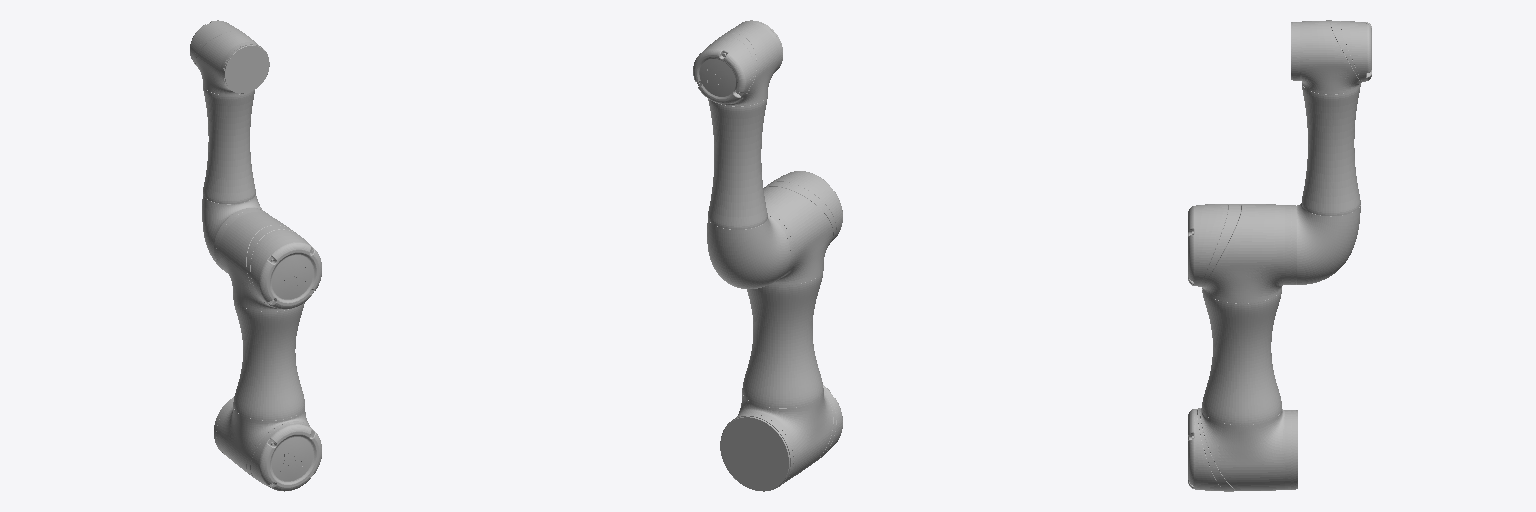
robot.urdf — tm5-700:
<?xml version="1.0" encoding="utf-8"?>
<!-- =================================================================================== -->
<!-- |    This document was autogenerated by xacro from tm5-700.urdf.xacro             | -->
<!-- |    EDITING THIS FILE BY HAND IS NOT RECOMMENDED                                 | -->
<!-- =================================================================================== -->
<robot name="tm5-700">
  <gazebo reference="base">
    <selfCollide>true</selfCollide>
    <material>Gazebo/Residential</material>
  </gazebo>
  <gazebo reference="link_0">
    <selfCollide>true</selfCollide>
    <material>Gazebo/Motorway</material>
  </gazebo>
  <gazebo reference="link_1">
    <selfCollide>true</selfCollide>
    <material>Gazebo/Footway</material>
  </gazebo>
  <gazebo reference="link_2">
    <selfCollide>true</selfCollide>
    <material>Gazebo/Pedestrian</material>
  </gazebo>
  <gazebo reference="link_3">
    <selfCollide>true</selfCollide>
    <material>Gazebo/Footway</material>
  </gazebo>
  <gazebo reference="link_4">
    <selfCollide>true</selfCollide>
    <material>Gazebo/Motorway</material>
  </gazebo>
  <gazebo reference="link_5">
    <selfCollide>true</selfCollide>
    <material>Gazebo/Pedestrian</material>
  </gazebo>
  <gazebo reference="link_6">
    <selfCollide>true</selfCollide>
    <material>Gazebo/DarkGrey</material>
  </gazebo>
  <gazebo>
    <plugin filename="libgazebo_ros_control.so" name="gazebo_ros_control">
      <robotNamespace>/</robotNamespace>
      <robotSimType>gazebo_ros_control/DefaultRobotHWSim</robotSimType>
    </plugin>
  </gazebo>
  <transmission name="trans_1">
    <type>transmission_interface/SimpleTransmission</type>
    <joint name="shoulder_1_joint">
      <hardwareInterface>hardware_interface/PositionJointInterface</hardwareInterface>
    </joint>
    <actuator name="motor_1">
      <mechanicalReduction>1</mechanicalReduction>
    </actuator>
  </transmission>
  <transmission name="trans_2">
    <type>transmission_interface/SimpleTransmission</type>
    <joint name="shoulder_2_joint">
      <hardwareInterface>hardware_interface/PositionJointInterface</hardwareInterface>
    </joint>
    <actuator name="motor_2">
      <mechanicalReduction>1</mechanicalReduction>
    </actuator>
  </transmission>
  <transmission name="trans_3">
    <type>transmission_interface/SimpleTransmission</type>
    <joint name="elbow_joint">
      <hardwareInterface>hardware_interface/PositionJointInterface</hardwareInterface>
    </joint>
    <actuator name="motor_3">
      <mechanicalReduction>1</mechanicalReduction>
    </actuator>
  </transmission>
  <transmission name="trans_4">
    <type>transmission_interface/SimpleTransmission</type>
    <joint name="wrist_1_joint">
      <hardwareInterface>hardware_interface/PositionJointInterface</hardwareInterface>
    </joint>
    <actuator name="motor_4">
      <mechanicalReduction>1</mechanicalReduction>
    </actuator>
  </transmission>
  <transmission name="trans_5">
    <type>transmission_interface/SimpleTransmission</type>
    <joint name="wrist_2_joint">
      <hardwareInterface>hardware_interface/PositionJointInterface</hardwareInterface>
    </joint>
    <actuator name="motor_5">
      <mechanicalReduction>1</mechanicalReduction>
    </actuator>
  </transmission>
  <transmission name="trans_6">
    <type>transmission_interface/SimpleTransmission</type>
    <joint name="wrist_3_joint">
      <hardwareInterface>hardware_interface/PositionJointInterface</hardwareInterface>
    </joint>
    <actuator name="motor_6">
      <mechanicalReduction>1</mechanicalReduction>
    </actuator>
  </transmission>
  <material name="none">
    <color rgba="0.0 0.0 0.0 1.0"/>
  </material>
  <material name="lightgrey">
    <color rgba="0.5 0.5 0.5 1.0"/>
  </material>
  <material name="grey">
    <color rgba="0.75 0.75 0.75 1.0"/>
  </material>
  <material name="white">
    <color rgba="0.95 0.95 0.95 1.0"/>
  </material>
  <material name="red">
    <color rgba="0.95 0.0 0.0 1.0"/>
  </material>
  <material name="orange">
    <color rgba="1.0 0.5 0.0 1.0"/>
  </material>
  <material name="yellow">
    <color rgba="1.0 1.0 0.0 1.0"/>
  </material>
  <material name="green">
    <color rgba="0.0 1.0 0.0 1.0"/>
  </material>
  <material name="blue">
    <color rgba="0.0 0.0 1.0 1.0"/>
  </material>
  <material name="indigo">
    <color rgba="0.3 0.3 0.6 1.0"/>
  </material>
  <material name="violet">
    <color rgba="0.6 0.0 1.0 1.0"/>
  </material>
  <material name="black">
    <color rgba="0.0 0.0 0.0 1.0"/>
  </material>
  <material name="darkolive">
    <color rgba="0.3 0.3 0.25 1.0"/>
  </material>
  <!--LinkDescription-->
  <link name="link_0">
    <visual>
      <geometry>
        <mesh filename="package://tm_description/meshes/tm5-900/visual/tm5-base.stl"/>
      </geometry>
      <material name="grey"/>
    </visual>
    <collision>
      <geometry>
        <mesh filename="package://tm_description/meshes/tm5-900/collision/tm5-base_c.stl"/>
      </geometry>
    </collision>
    <inertial>
      <mass value="1.0"/>
      <origin rpy="0.000000 0.000000 0.000000" xyz="0.000000 0.000000 0.000000"/>
      <inertia ixx="0.00110833289" ixy="0.0" ixz="0.0" iyy="0.00110833289" iyz="0.0" izz="0.0018"/>
    </inertial>
  </link>
  <joint name="shoulder_1_joint" type="revolute">
    <parent link="link_0"/>
    <child link="link_1"/>
    <origin rpy="0.000000 -0.000000 0.000000" xyz="0.000000 0.000000 0.145200"/>
    <axis xyz="0 0 1"/>
    <!--limit-->
    <limit effort="157" lower="-4.71238898038" upper="4.71238898038" velocity="3.14159265359"/>
    <dynamics damping="0.0" friction="0.0"/>
  </joint>
  <link name="link_1">
    <visual>
      <geometry>
        <mesh filename="package://tm_description/meshes/tm5-900/visual/tmr_400w_01.stl"/>
      </geometry>
      <material name="grey"/>
    </visual>
    <collision>
      <geometry>
        <mesh filename="package://tm_description/meshes/tm5-900/collision/tmr_400w_01_c.stl"/>
      </geometry>
    </collision>
    <inertial>
      <origin rpy="0.000000 0.000000 0.000000" xyz="0.000000 0.000000 0.000000"/>
      <mass value="4.032"/>
      <inertia ixx="0.008800119" ixy="0.000000" ixz="0.000000" iyy="0.011548982" iyz="0.000000" izz="0.011970081"/>
    </inertial>
  </link>
  <joint name="shoulder_2_joint" type="revolute">
    <parent link="link_1"/>
    <child link="link_2"/>
    <origin rpy="-1.570796 -1.570796 0.000000" xyz="0.000000 0.000000 0.000000"/>
    <axis xyz="0 0 1"/>
    <!--limit-->
    <limit effort="157" lower="-3.14159265359" upper="3.14159265359" velocity="3.14159265359"/>
    <dynamics damping="0.0" friction="0.0"/>
  </joint>
  <link name="link_2">
    <visual>
      <geometry>
        <mesh filename="package://tm_description/meshes/tm5-700/visual/tm5-700_arm1.stl"/>
      </geometry>
      <material name="grey"/>
    </visual>
    <collision>
      <geometry>
        <mesh filename="package://tm_description/meshes/tm5-700/collision/tm5-700_arm1_c.stl"/>
      </geometry>
    </collision>
    <inertial>
      <origin rpy="0.000000 0.000000 0.000000" xyz="0.000000 0.000000 0.000000"/>
      <mass value="8.567"/>
      <inertia ixx="0.023552072" ixy="0.000000" ixz="0.000000" iyy="0.19825197" iyz="0.000000" izz="0.20459254"/>
    </inertial>
  </link>
  <joint name="elbow_joint" type="revolute">
    <parent link="link_2"/>
    <child link="link_3"/>
    <origin rpy="0.000000 -0.000000 0.000000" xyz="0.329000 0.000000 0.000000"/>
    <axis xyz="0 0 1"/>
    <!--limit-->
    <limit effort="157" lower="-2.70526034059" upper="2.70526034059" velocity="3.14159265359"/>
    <dynamics damping="0.0" friction="0.0"/>
  </joint>
  <link name="link_3">
    <visual>
      <geometry>
        <mesh filename="package://tm_description/meshes/tm5-700/visual/tm5-700_arm2.stl"/>
      </geometry>
      <material name="grey"/>
    </visual>
    <collision>
      <geometry>
        <mesh filename="package://tm_description/meshes/tm5-700/collision/tm5-700_arm2_c.stl"/>
      </geometry>
    </collision>
    <inertial>
      <origin rpy="0.000000 0.000000 0.000000" xyz="0.000000 0.000000 0.000000"/>
      <mass value="2.273"/>
      <inertia ixx="0.003380181" ixy="0.000000" ixz="0.000000" iyy="0.033829144" iyz="0.000000" izz="0.034328203"/>
    </inertial>
  </link>
  <joint name="wrist_1_joint" type="revolute">
    <parent link="link_3"/>
    <child link="link_4"/>
    <origin rpy="0.000000 -0.000000 1.570796" xyz="0.311500 0.000000 -0.122300"/>
    <axis xyz="0 0 1"/>
    <!--limit-->
    <limit effort="43" lower="-3.14159265359" upper="3.14159265359" velocity="3.92699081699"/>
    <dynamics damping="0.0" friction="0.0"/>
  </joint>
  <link name="link_4">
    <visual>
      <geometry>
        <mesh filename="package://tm_description/meshes/tm5-900/visual/tmr_100w_01.stl"/>
      </geometry>
      <material name="grey"/>
    </visual>
    <collision>
      <geometry>
        <mesh filename="package://tm_description/meshes/tm5-900/collision/tmr_100w_01_c.stl"/>
      </geometry>
    </collision>
    <inertial>
      <origin rpy="0.000000 0.000000 0.000000" xyz="0.000000 0.000000 0.000000"/>
      <mass value="1.576"/>
      <inertia ixx="0.002058405" ixy="0.000000" ixz="0.000000" iyy="0.002563079" iyz="0.000000" izz="0.00264321"/>
    </inertial>
  </link>
  <joint name="wrist_2_joint" type="revolute">
    <parent link="link_4"/>
    <child link="link_5"/>
    <origin rpy="1.570796 -0.000000 0.000000" xyz="0.000000 -0.106000 0.000000"/>
    <axis xyz="0 0 1"/>
    <!--limit-->
    <limit effort="43" lower="-3.14159265359" upper="3.14159265359" velocity="3.92699081699"/>
    <dynamics damping="0.0" friction="0.0"/>
  </joint>
  <link name="link_5">
    <visual>
      <geometry>
        <mesh filename="package://tm_description/meshes/tm5-900/visual/tmr_100w_02.stl"/>
      </geometry>
      <material name="grey"/>
    </visual>
    <collision>
      <geometry>
        <mesh filename="package://tm_description/meshes/tm5-900/collision/tmr_100w_02_c.stl"/>
      </geometry>
    </collision>
    <inertial>
      <origin rpy="0.000000 0.000000 0.000000" xyz="0.000000 0.000000 0.000000"/>
      <mass value="1.576"/>
      <inertia ixx="0.002058405" ixy="0.000000" ixz="0.000000" iyy="0.002563079" iyz="0.000000" izz="0.00264321"/>
    </inertial>
  </link>
  <joint name="wrist_3_joint" type="revolute">
    <parent link="link_5"/>
    <child link="link_6"/>
    <origin rpy="1.570796 -0.000000 0.000000" xyz="0.000000 -0.113150 0.000000"/>
    <axis xyz="0 0 1"/>
    <!--limit-->
    <limit effort="43" lower="-4.71238898038" upper="4.71238898038" velocity="3.92699081699"/>
    <dynamics damping="0.0" friction="0.0"/>
  </joint>
  <link name="link_6">
    <visual>
      <geometry>
        <mesh filename="package://tm_description/meshes/tm5-900/visual/tmr_ee.stl"/>
      </geometry>
      <material name="grey"/>
    </visual>
    <collision>
      <geometry>
        <mesh filename="package://tm_description/meshes/tm5-900/collision/tmr_ee_c.stl"/>
      </geometry>
    </collision>
    <inertial>
      <origin rpy="0.000000 0.000000 0.000000" xyz="0.000000 0.000000 0.000000"/>
      <mass value="0.65"/>
      <inertia ixx="0.000774544" ixy="0.000000" ixz="0.000000" iyy="0.001383811" iyz="0.000000" izz="0.001559496"/>
    </inertial>
  </link>
  <joint name="flange_fixed_joint" type="fixed">
    <parent link="link_6"/>
    <child link="flange_link"/>
    <origin rpy="0.000000 0.000000 0.000000" xyz="0.000000 0.000000 0.000000"/>
  </joint>
  <link name="flange_link"/>
  <link name="base"/>
  <joint name="base_fixed_joint" type="fixed">
    <parent link="base"/>
    <child link="link_0"/>
    <origin rpy="0.000000 0.000000 0.000000" xyz="0.000000 0.000000 0.000000"/>
  </joint>
  <link name="tool0"/>
  <joint name="flange_link-tool0" type="fixed">
    <parent link="flange_link"/>
    <child link="tool0"/>
    <origin rpy="0.000000 0.000000 0.000000" xyz="0.000000 0.000000 0.000000"/>
  </joint>
  <!--LinkDescription-->
  <link name="world"/>
  <joint name="world_joint" type="fixed">
    <parent link="world"/>
    <child link="base"/>
    <origin rpy="0 0 0" xyz="0 0 0"/>
  </joint>
</robot>

--- What the picture shows (computed from the rendered views, not written in the file) ---
3 views of the same robot in one strip: view 1: azimuth 30°, elevation 25°; view 2: azimuth 150°, elevation 25°; view 3: azimuth 270°, elevation 25° (orthographic).
Robot: tm5-700 — 11 links, 10 joints (6 revolute, 4 fixed); root link world; default pose: every joint at zero.
Visible links, largest first — view 1: link_2, link_3; view 2: link_2, link_3; view 3: link_2, link_3.
Boxes of the visible links, x1,y1,x2,y2 form: link_2: (214,208,321,491); link_3: (190,20,269,265); link_2: (720,171,842,491); link_3: (693,20,790,288); link_2: (1188,204,1297,491); link_3: (1291,20,1371,284).
Bounding box of the posed robot: 0.1213 × 0.2673 × 0.7459 m (x, y, z).
Meshes: 7 distinct files referenced, 2 mesh visuals loaded (2 binary STL); not drawn: 5 (reference not matched to a file when rendering).